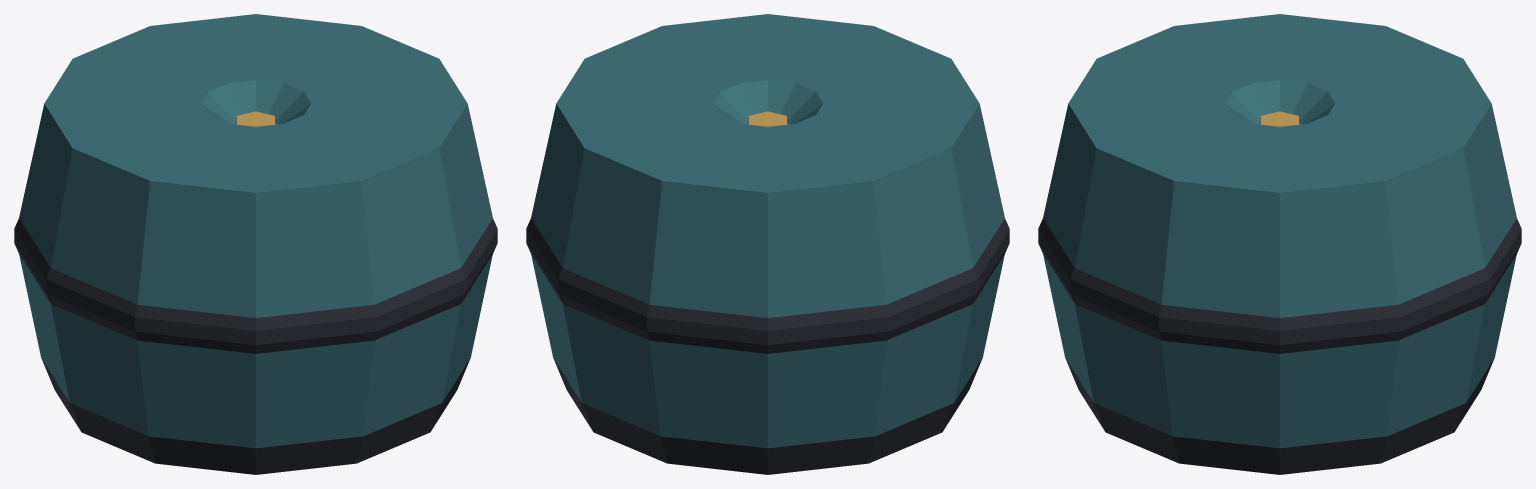
File: FN_Stool_Pouffe.glb
3 views of the same model, side by side, from view 1: azimuth 30°, elevation 25°; view 2: azimuth 150°, elevation 25°; view 3: azimuth 270°, elevation 25° (orthographic).
Parts seen in each view (by area): view 1: FN_Stool_Pouffe; view 2: FN_Stool_Pouffe; view 3: FN_Stool_Pouffe.
Part boxes in pixels (x1,y1,x2,y2): FN_Stool_Pouffe: [14, 14, 497, 474]; FN_Stool_Pouffe: [526, 14, 1009, 474]; FN_Stool_Pouffe: [1038, 14, 1521, 474].
Bounding box in the file's own units: 0.612 × 0.4 × 0.612.
Materials: 1 (1 with a texture image).
